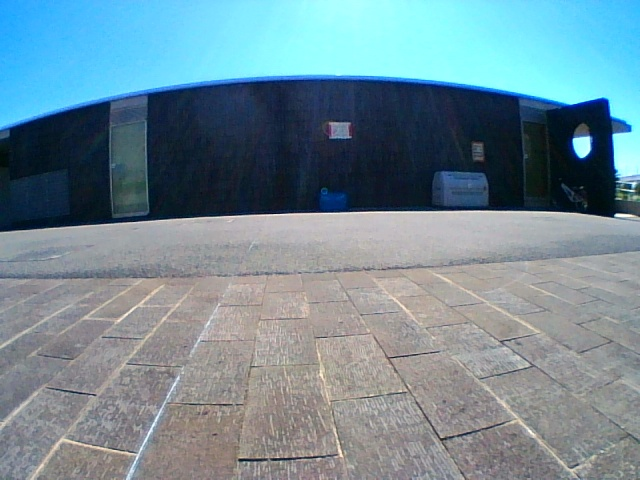blue_box: (321, 194, 346, 211)
